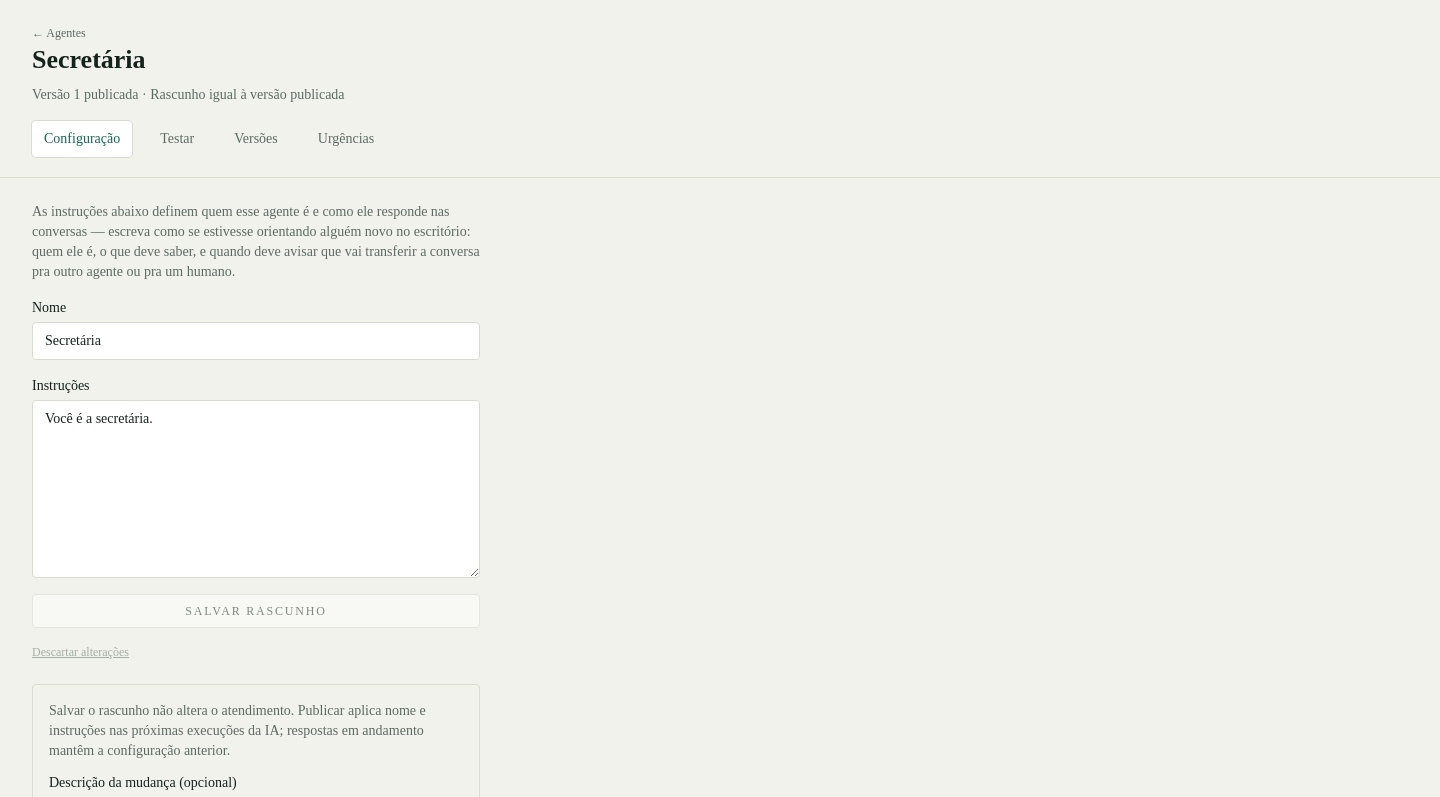
Test: AgentDetail › permite descartar alterações não salvas
This screenshot has width=1440, height=797.
Replace the text in the field showing "Secretária" with "Outro nome" at (256, 340), box [32,322,480,360]
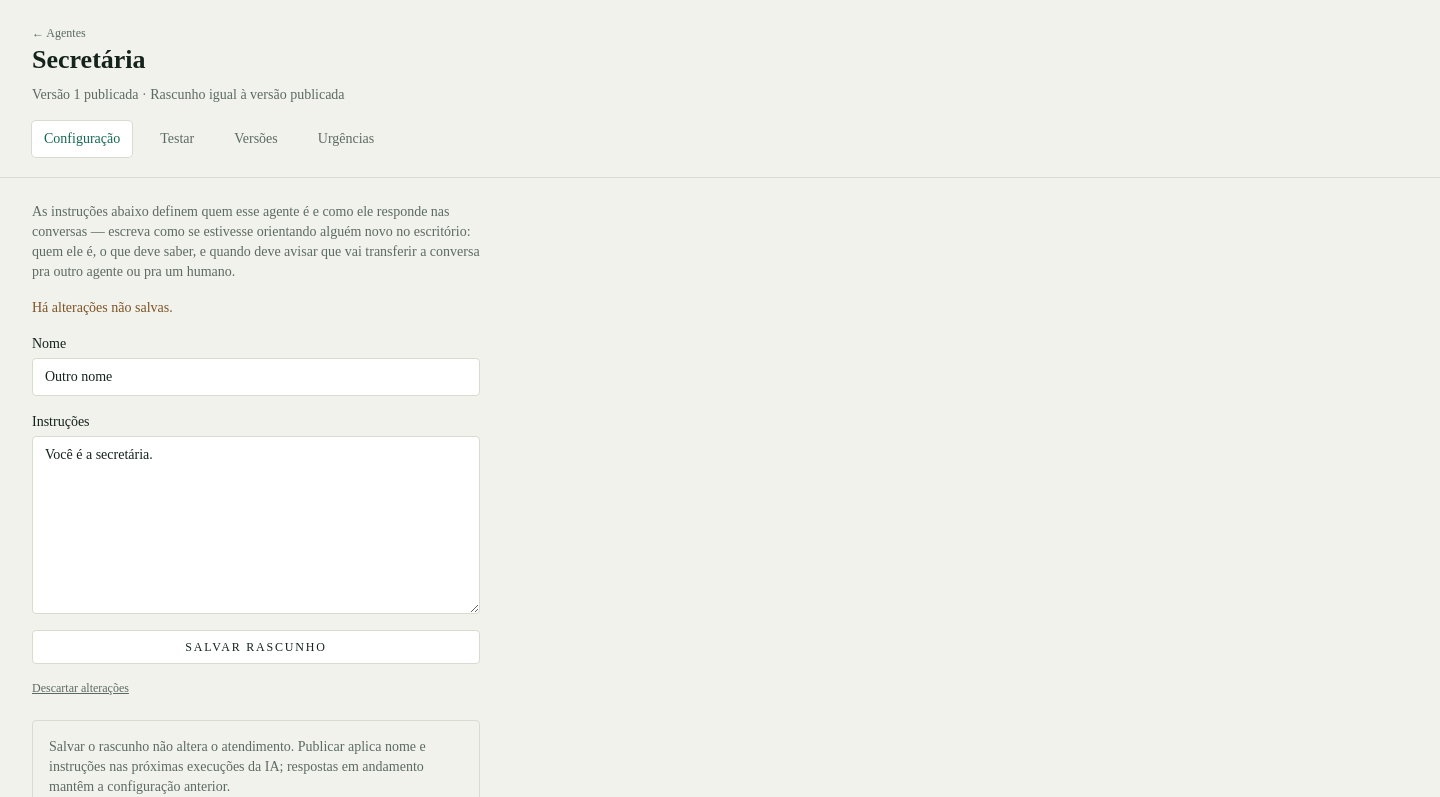
Now the text "Há alterações não salvas." is shown, box [32,300,173,314]
Click the button "Descartar alterações" at (80, 688), box [32,680,129,696]
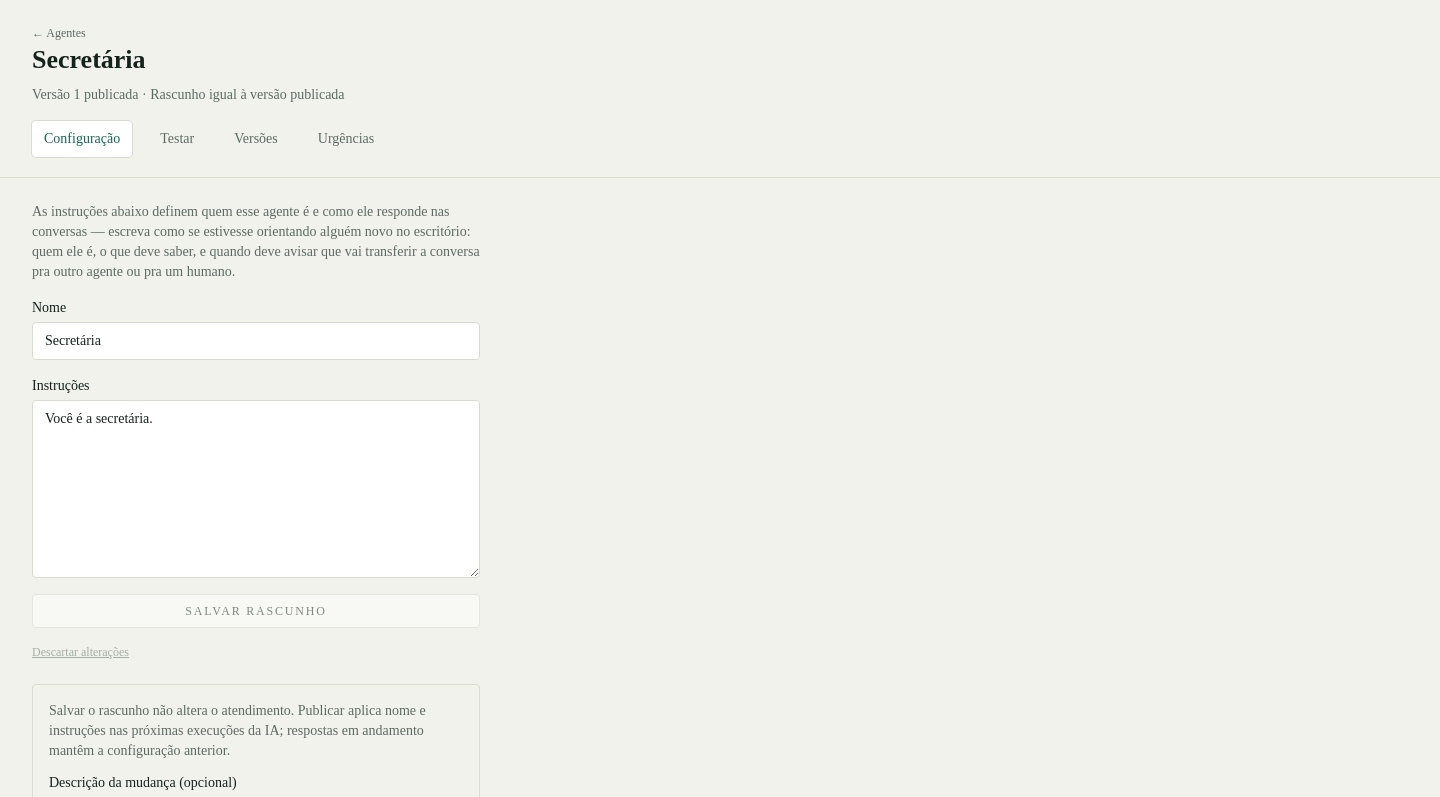
Now the field showing "Secretária" is shown, box [32,322,480,360]
Now the text "Há alterações não salvas." is gone
